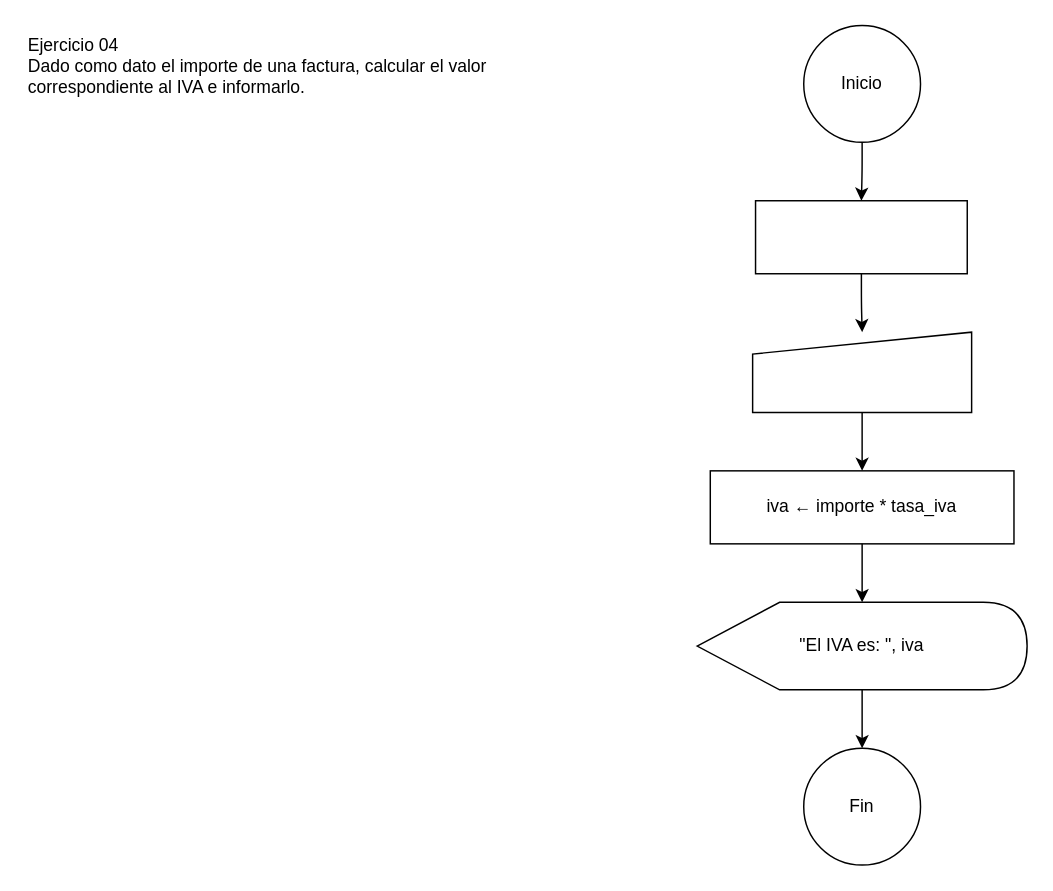
Some shapes in this 1053 by 891 pixel diagram are drawn without their labels. Each missing label, with the centre of its shape:
importe: the point at 861,371
tasa_iva ← 0.21: the point at 860,236
